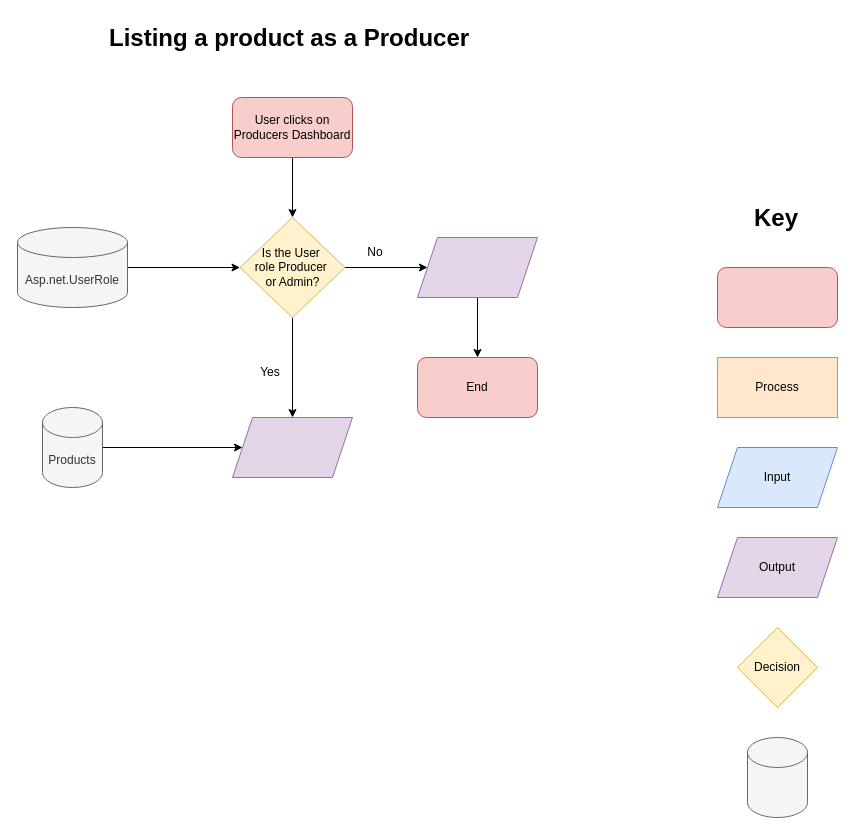
Some shapes in this 855 by 835 pixel diagram are drawn without their labels. Here are the shapes that lost their labels. From the top down, the centre of each, then its label:
At (x=477, y=267): "Output error message not allowed".
At (x=777, y=297): "Start/End".
At (x=292, y=447): "Return view Producers Dashboard".
At (x=777, y=777): "Database".
